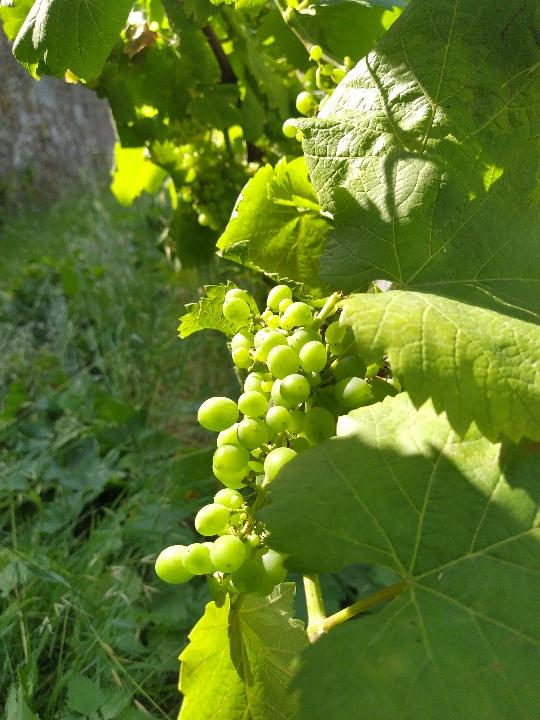grape: (149, 281, 403, 597)
